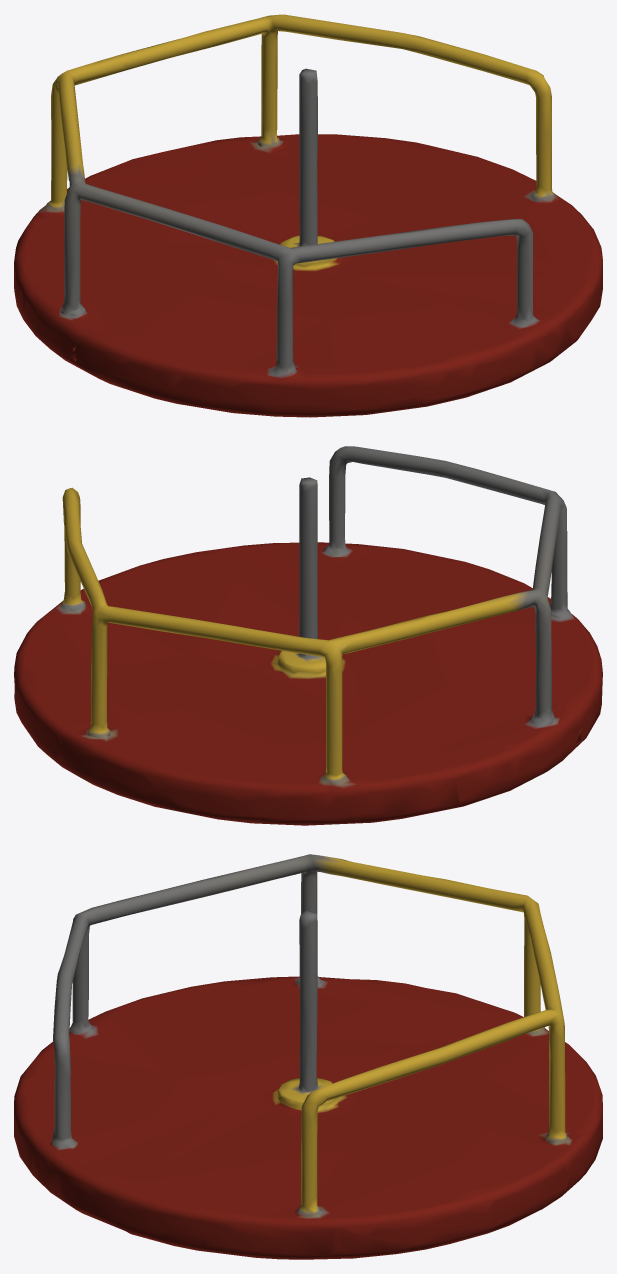
Rendered from gen3d-merry-go-round-lod0.glb.
The picture shows the model from 3 angles, top to bottom: view 1: azimuth 30°, elevation 25°; view 2: azimuth 150°, elevation 25°; view 3: azimuth 270°, elevation 25°; orthographic projection.
Parts seen in each view (by area): view 1: part_0; view 2: part_0; view 3: part_0.
Part boxes in pixels (x1=…): part_0: x1=14, y1=14, x2=602, y2=417; part_0: x1=14, y1=446, x2=602, y2=825; part_0: x1=14, y1=854, x2=602, y2=1259.
Size of the model in its own units: 2.38 by 0.9998 by 2.38.
